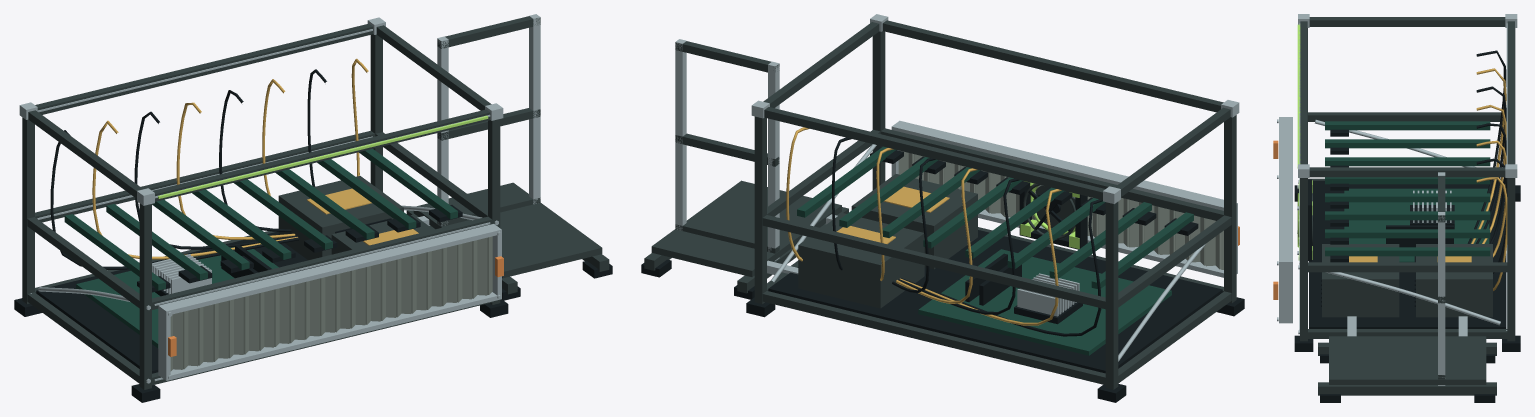
The model's file is rig-runtime-8-pleated-bracket.glb.
The picture shows the model from 3 angles, left to right: view 1: azimuth 30°, elevation 25°; view 2: azimuth 150°, elevation 25°; view 3: azimuth 270°, elevation 25°; orthographic projection. The views are drawn at different scales.
Parts seen in each view (by area): view 1: Anodized graphite (×2), Filter fibres, Brushed aluminium (×3), Circuit board, Rubber and ABS, rig-runtime-8-pleated-bracket, Contacts, slot-cable-1, slot-cable-2, slot-cable-3, slot-cable-4, slot-cable-5; view 2: Anodized graphite (×2), Circuit board, Rubber and ABS (×2), Brushed aluminium (×3), Filter fibres, Contacts, slot-cable-1, slot-cable-2, slot-cable-3, slot-cable-4, slot-cable-5, Lime accents; view 3: Anodized graphite (×2), Circuit board, Rubber and ABS (×3), Brushed aluminium (×3), rig-runtime-8-pleated-bracket, slot-cable-1, slot-cable-2, slot-cable-3, Contacts, slot-cable-8, slot-cable-4, slot-cable-5 (+2 smaller).
Boxes of the visible parts, bbox=[...] form: Anodized graphite (×2): bbox=[22, 16, 609, 389]; Filter fibres: bbox=[170, 236, 492, 371]; Brushed aluminium (×3): bbox=[19, 14, 540, 383]; Circuit board: bbox=[64, 149, 457, 348]; Rubber and ABS: bbox=[14, 205, 508, 402]; rig-runtime-8-pleated-bracket: bbox=[158, 115, 488, 198]; Contacts: bbox=[307, 188, 418, 245]; slot-cable-1: bbox=[50, 130, 299, 269]; slot-cable-2: bbox=[92, 120, 297, 259]; slot-cable-3: bbox=[134, 111, 296, 249]; slot-cable-4: bbox=[176, 102, 295, 239]; slot-cable-5: bbox=[219, 90, 291, 232]; Anodized graphite (×2): bbox=[644, 20, 1236, 389]; Circuit board: bbox=[797, 146, 1193, 355]; Rubber and ABS (×2): bbox=[746, 146, 1244, 402]; Brushed aluminium (×3): bbox=[675, 14, 1239, 361]; Filter fibres: bbox=[898, 150, 1223, 269]; Contacts: bbox=[836, 186, 949, 244]; slot-cable-1: bbox=[901, 199, 1102, 336]; slot-cable-2: bbox=[900, 189, 1061, 325]; slot-cable-3: bbox=[898, 178, 1019, 314]; slot-cable-4: bbox=[896, 168, 977, 303]; slot-cable-5: bbox=[892, 158, 935, 293]; Lime accents: bbox=[1020, 181, 1079, 248]; Anodized graphite (×2): bbox=[1300, 17, 1515, 395]; Circuit board: bbox=[1325, 121, 1490, 262]; Rubber and ABS (×3): bbox=[1294, 129, 1520, 402]; Brushed aluminium (×3): bbox=[1279, 14, 1517, 385]; rig-runtime-8-pleated-bracket: bbox=[1297, 24, 1300, 168]; slot-cable-1: bbox=[1467, 50, 1506, 243]; slot-cable-2: bbox=[1471, 68, 1506, 243]; slot-cable-3: bbox=[1475, 86, 1506, 243]; Contacts: bbox=[1349, 256, 1471, 262]; slot-cable-8: bbox=[1476, 177, 1507, 290]; slot-cable-4: bbox=[1476, 105, 1506, 243]; slot-cable-5: bbox=[1476, 123, 1506, 243].
Bounding box in the file's own units: 8.02 × 3.32 × 4.01.
